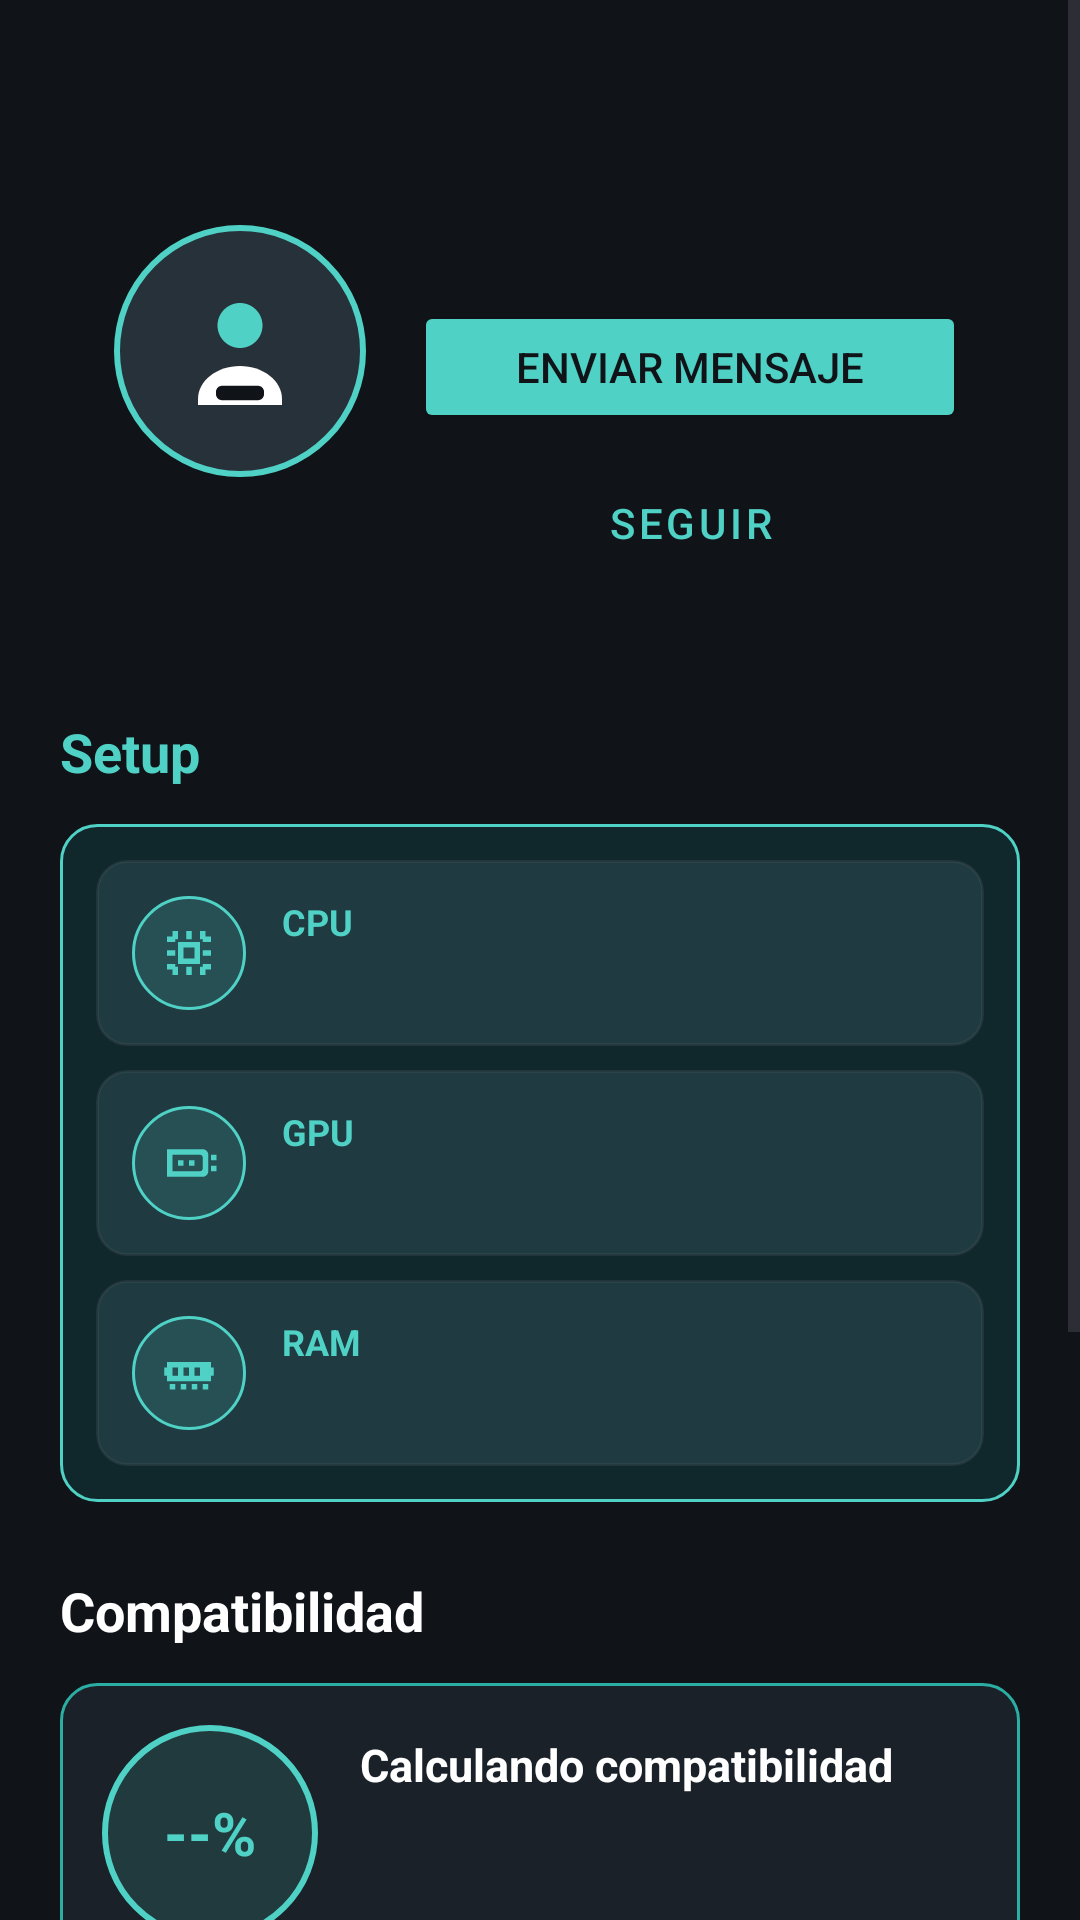

Point at icon controls on the screen. Image size 1080 x 1920, points as (x,y).
profile: (240,351)
